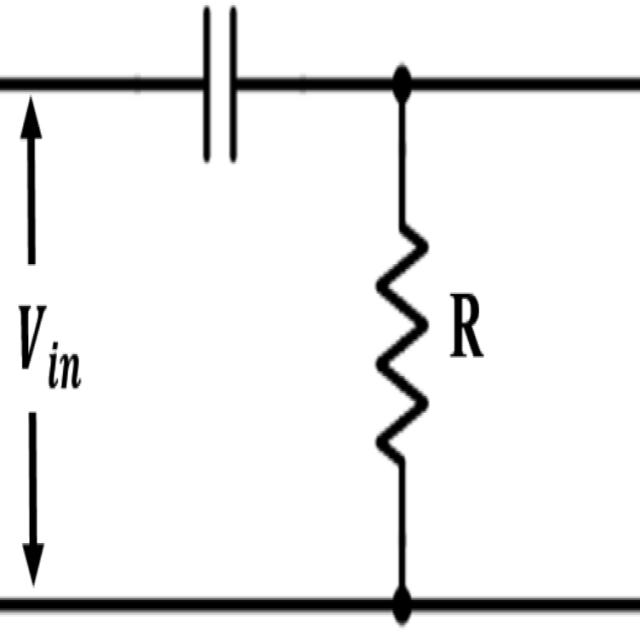cap: (200, 1, 246, 174)
net: (0, 69, 209, 101)
net_node: (1, 582, 640, 629), (227, 59, 638, 111), (391, 446, 419, 638), (388, 54, 415, 238)
